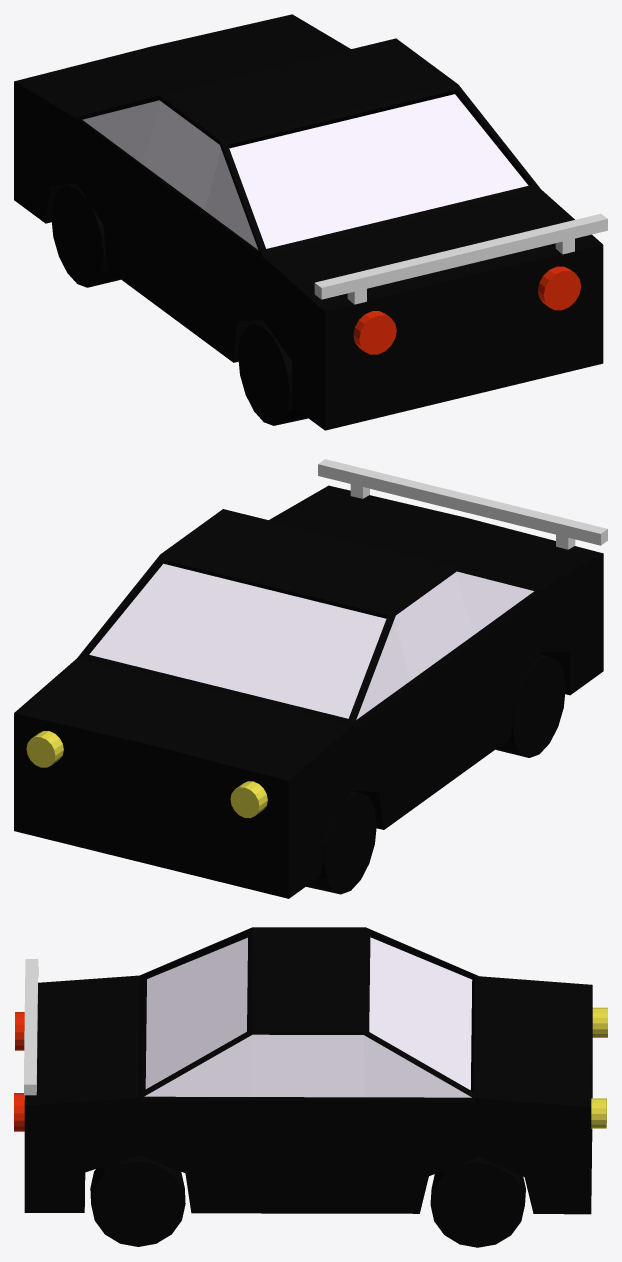
Rendered from Car.fbx.
3 renders of one model, top to bottom at view 1: azimuth 30°, elevation 25°; view 2: azimuth 150°, elevation 25°; view 3: azimuth 270°, elevation 25°, orthographic. The views are drawn at different scales.
Visible parts, largest first — view 1: Car, Cylinder, Cube, Back Light; view 2: Car, Cylinder, Cube, Cylinder.001; view 3: Car, Cylinder, Cube, Cylinder.001, Back Light.
Boxes of the visible parts, x1=… form: Car: x1=14, y1=14, x2=603, y2=430; Cylinder: x1=51, y1=183, x2=308, y2=425; Cube: x1=314, y1=213, x2=607, y2=304; Back Light: x1=353, y1=266, x2=580, y2=354; Car: x1=14, y1=485, x2=603, y2=898; Cylinder: x1=306, y1=654, x2=565, y2=894; Cube: x1=318, y1=459, x2=607, y2=549; Cylinder.001: x1=26, y1=731, x2=267, y2=818; Car: x1=24, y1=927, x2=592, y2=1214; Cylinder: x1=90, y1=1155, x2=525, y2=1247; Cube: x1=24, y1=959, x2=38, y2=1095; Cylinder.001: x1=591, y1=1007, x2=607, y2=1128; Back Light: x1=14, y1=1012, x2=24, y2=1131.
Bounding box in the file's own units: 372 × 287 × 742.
